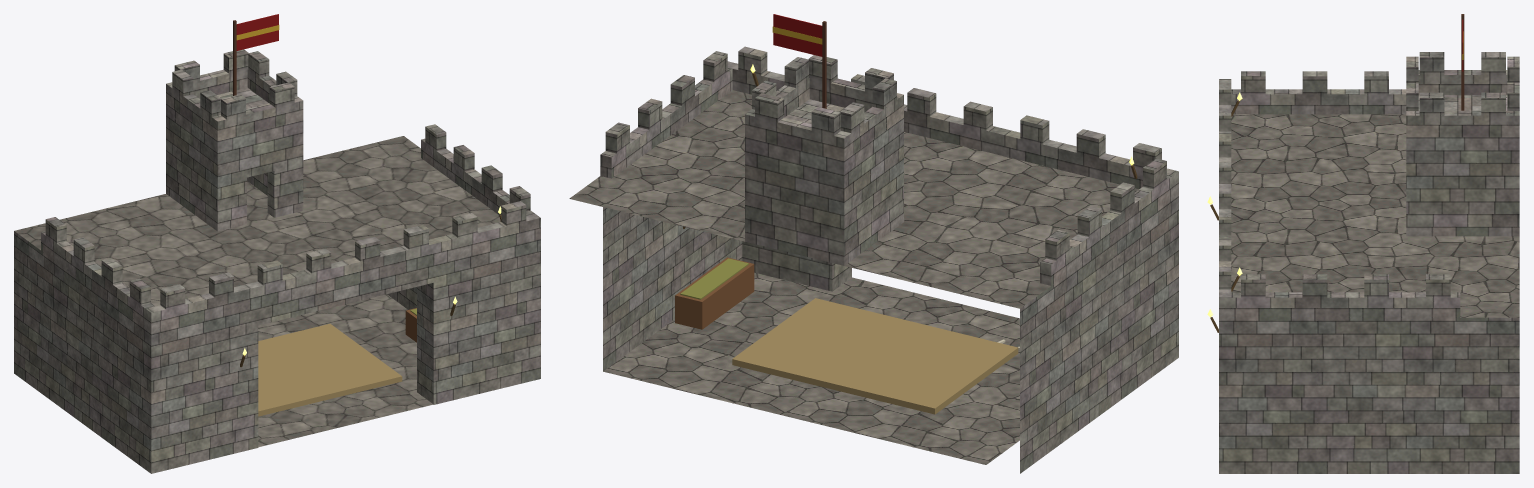
File: draci_hrad_interier.glb
3 views of the same model, side by side, from view 1: azimuth 30°, elevation 25°; view 2: azimuth 150°, elevation 25°; view 3: azimuth 270°, elevation 25° (orthographic). The views are drawn at different scales.
Parts seen in each view (by area): view 1: sin, podlaha_1, podlaha; view 2: sin, podlaha_1, podlaha; view 3: sin, podlaha_1.
Boxes of the visible parts, x1,y1,x2,y2 form: sin: (14,14,540,473); podlaha_1: (14,136,500,306); podlaha: (258,294,433,447); sin: (600,14,1178,473); podlaha_1: (569,90,1138,308); podlaha: (603,272,1019,464); sin: (1210,14,1519,473); podlaha_1: (1231,114,1519,317).
Size of the model in its own units: 20 by 15.9 by 12.67.
2 materials, 1 textured.
